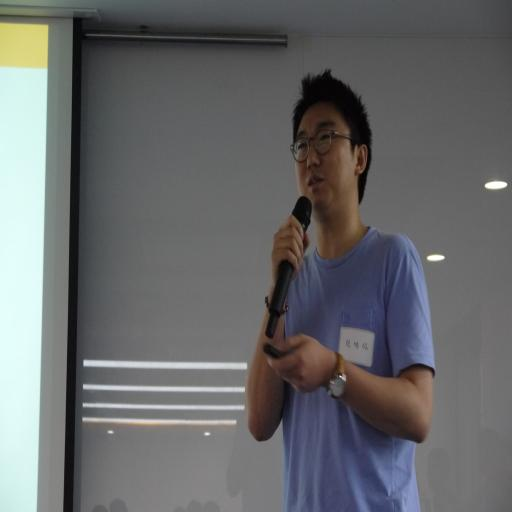Person: (214, 120, 456, 432)
no_gloves: (262, 312, 334, 358), (242, 230, 314, 275)
no_goggle: (276, 168, 352, 191)
no_helmet: (281, 132, 374, 170)
none: (284, 237, 438, 428)
